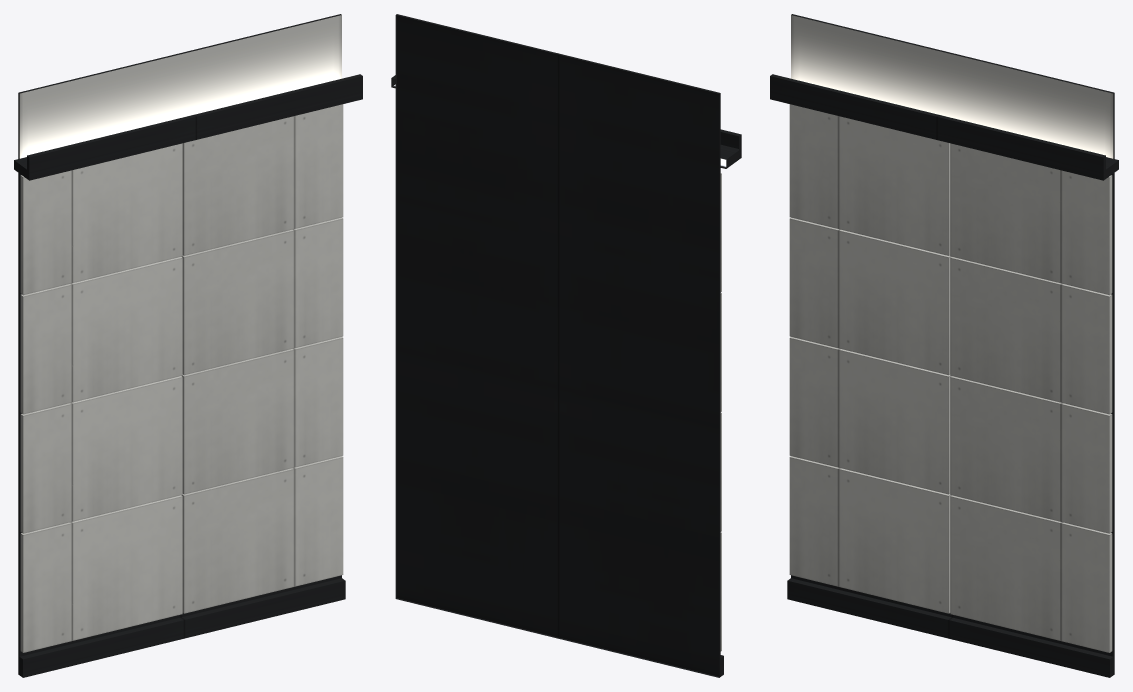
Rendered from SM_LFD_WallPanel_A.fbx.
3 views of the same model, side by side, from view 1: azimuth 30°, elevation 25°; view 2: azimuth 150°, elevation 25°; view 3: azimuth 330°, elevation 25° (orthographic).
Parts seen in each view (by area): view 1: SM_LFD_WallPanel_A_LOD0; view 2: SM_LFD_WallPanel_A_LOD0; view 3: SM_LFD_WallPanel_A_LOD0.
Part boxes in pixels (x1,y1,x2,y2): SM_LFD_WallPanel_A_LOD0: (14, 14, 362, 677); SM_LFD_WallPanel_A_LOD0: (391, 14, 741, 677); SM_LFD_WallPanel_A_LOD0: (770, 14, 1118, 677).
Size of what is drawn, in the model's own units: 3 by 5 by 0.26.
